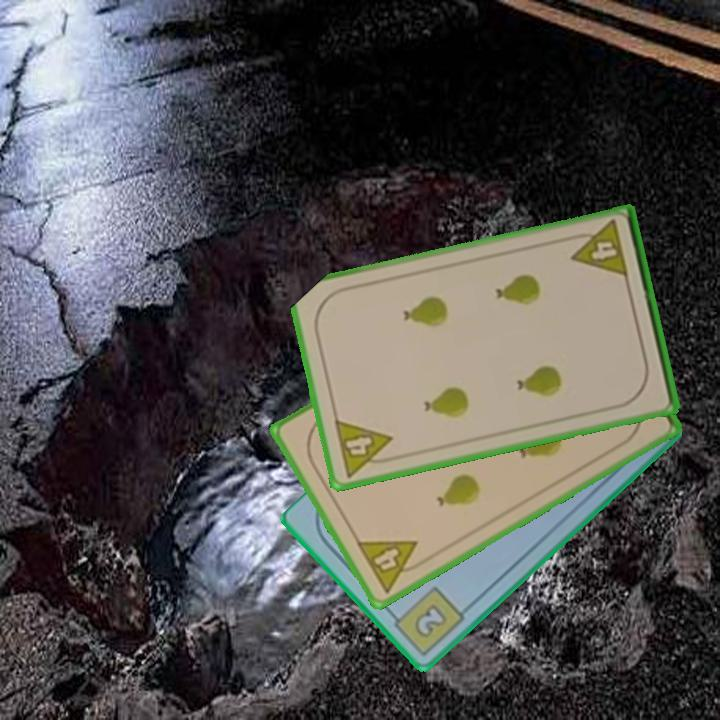2b: (384, 583, 468, 659)
4p: (352, 536, 431, 596), (330, 416, 399, 480), (564, 216, 631, 281)
